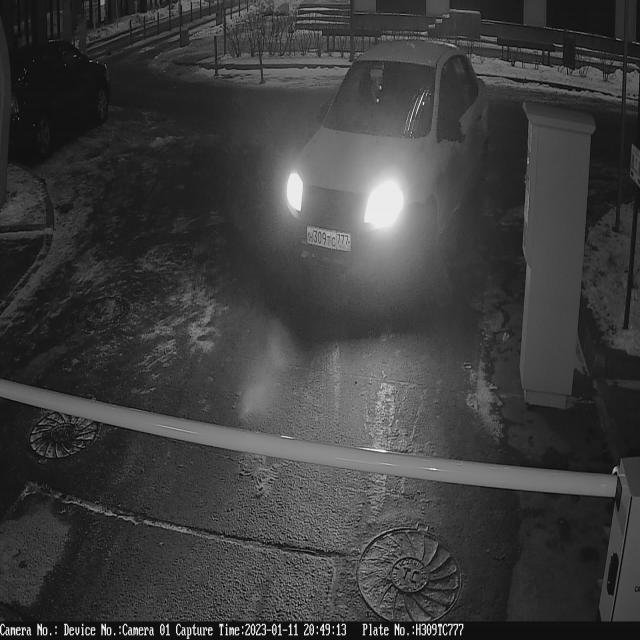car-plate-numbers: (305, 218, 355, 258)
